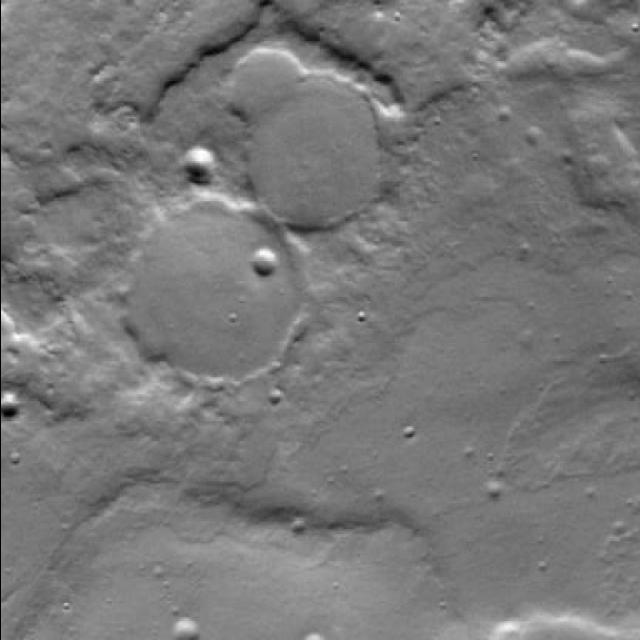crater: (128, 202, 310, 402), (239, 56, 387, 219), (230, 28, 312, 117), (568, 126, 638, 206), (185, 150, 221, 188), (168, 606, 198, 640), (248, 248, 276, 280), (0, 393, 23, 419), (297, 626, 329, 640), (526, 127, 542, 145)
